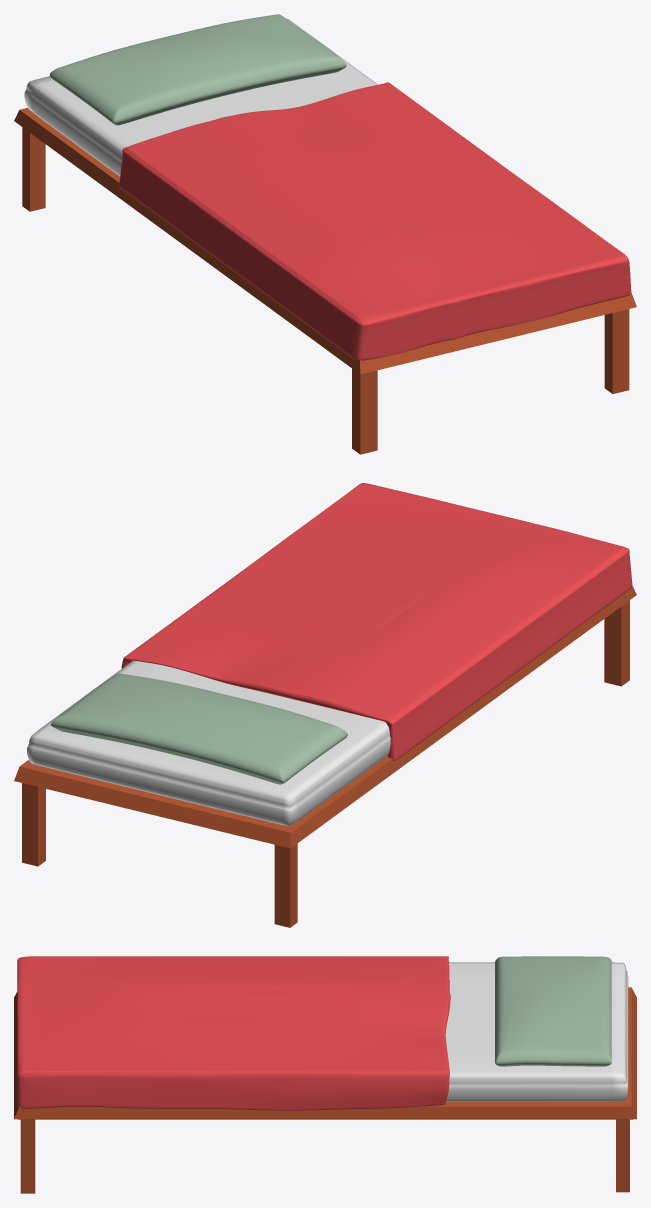
Rendered from Cama.fbx.
3 renders of one model, top to bottom at view 1: azimuth 30°, elevation 25°; view 2: azimuth 150°, elevation 25°; view 3: azimuth 270°, elevation 25°, orthographic. The views are drawn at different scales.
Parts seen in each view (by area): view 1: Cube.025, Cube.024, Cube.022, Cube.023; view 2: Cube.025, Cube.023, Cube.024, Cube.022; view 3: Cube.025, Cube.023, Cube.024, Cube.022.
Part boxes in pixels (x1,y1,x2,y2): Cube.025: (119, 82, 631, 360); Cube.024: (49, 14, 346, 125); Cube.022: (14, 107, 636, 454); Cube.023: (24, 18, 377, 176); Cube.025: (121, 483, 632, 761); Cube.023: (27, 660, 390, 826); Cube.024: (51, 673, 347, 784); Cube.022: (14, 586, 636, 927); Cube.025: (17, 956, 450, 1110); Cube.023: (445, 962, 628, 1101); Cube.024: (495, 956, 611, 1066); Cube.022: (14, 987, 636, 1193).
Bounding box in the file's own units: 157 × 84 × 339.
